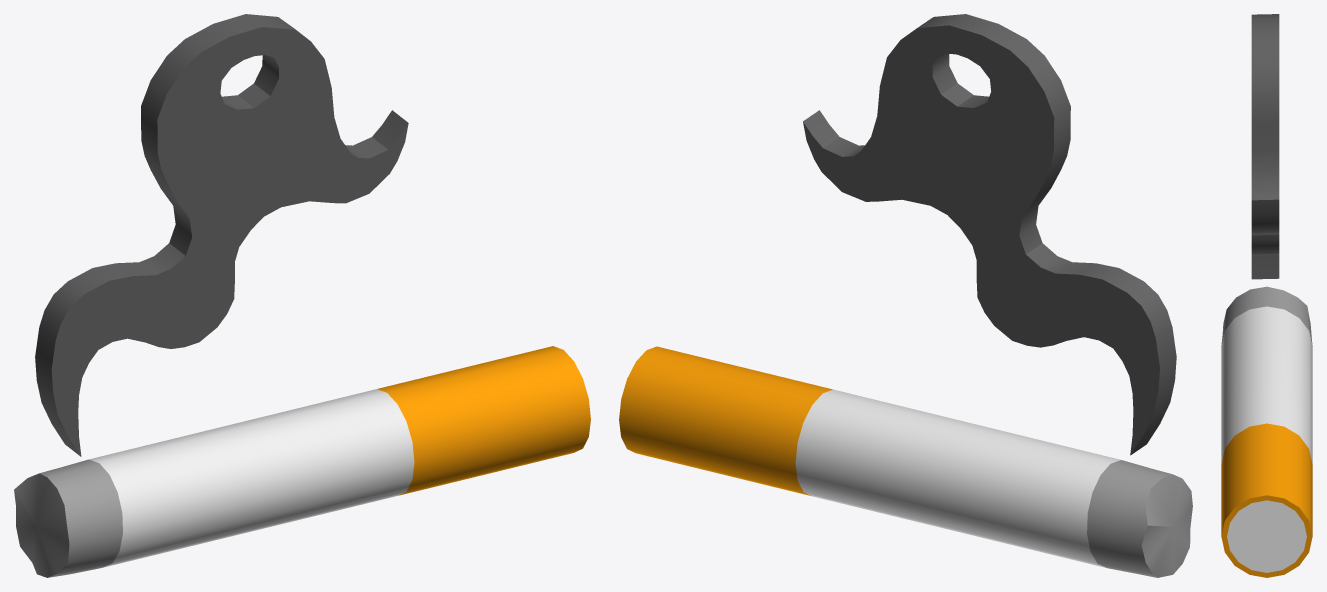
The model's file is cigarette.glb.
3 renders of one model, left to right at view 1: azimuth 30°, elevation 25°; view 2: azimuth 150°, elevation 25°; view 3: azimuth 270°, elevation 25°, orthographic. The views are drawn at different scales.
Parts seen in each view (by area): view 1: Plane.346; view 2: Plane.346; view 3: Plane.346.
Boxes of the visible parts, x1,y1,x2,y2 form: Plane.346: (14, 14, 590, 577); Plane.346: (619, 14, 1192, 577); Plane.346: (1221, 14, 1312, 577).
Size of the model in its own units: 1.84 by 1.69 by 0.331.
Materials: 1 (1 with a texture image).
